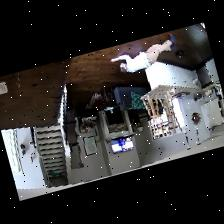person: (111, 33, 176, 71), (118, 138, 125, 149)
